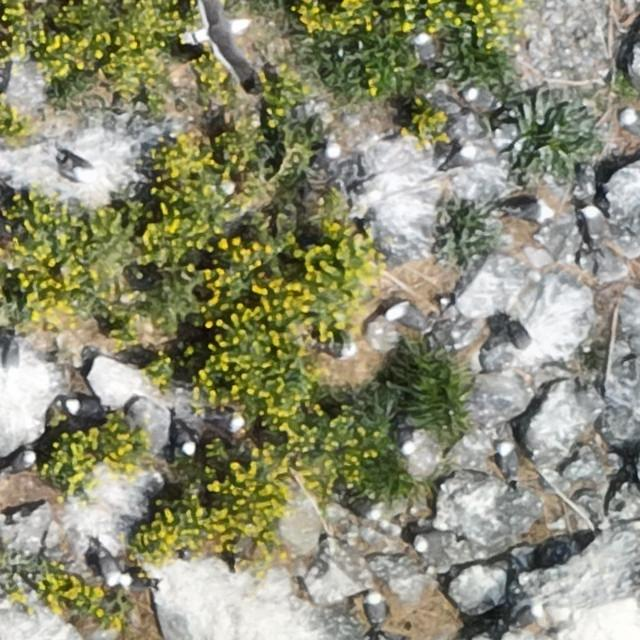F: (178, 0, 256, 84)
umineko: (581, 200, 612, 260), (58, 154, 104, 185), (343, 494, 390, 524), (384, 302, 429, 329), (412, 531, 460, 555), (508, 324, 534, 353), (515, 201, 551, 221), (97, 550, 118, 583), (499, 444, 518, 478), (210, 412, 244, 431), (67, 398, 102, 416), (7, 451, 35, 473), (464, 89, 496, 108), (319, 341, 354, 358), (444, 149, 472, 169), (515, 602, 543, 622), (366, 595, 384, 626), (176, 427, 196, 454), (119, 577, 151, 592)
